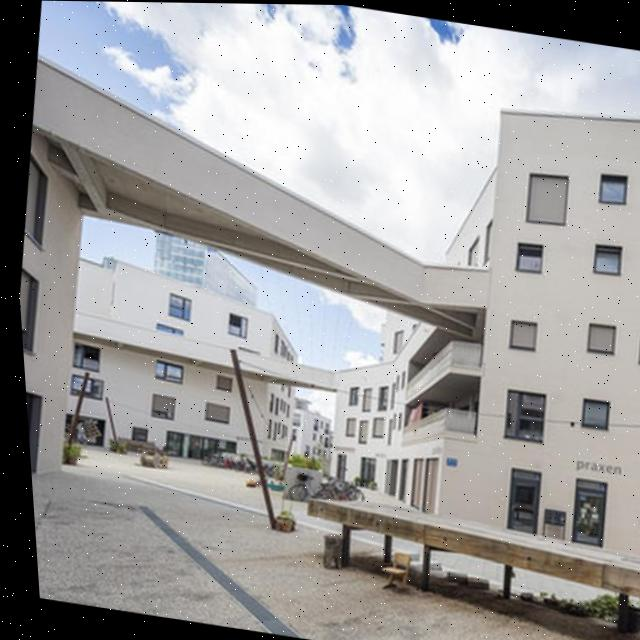building: (287, 63, 640, 611), (45, 248, 329, 482), (3, 52, 121, 482), (146, 226, 275, 311)
